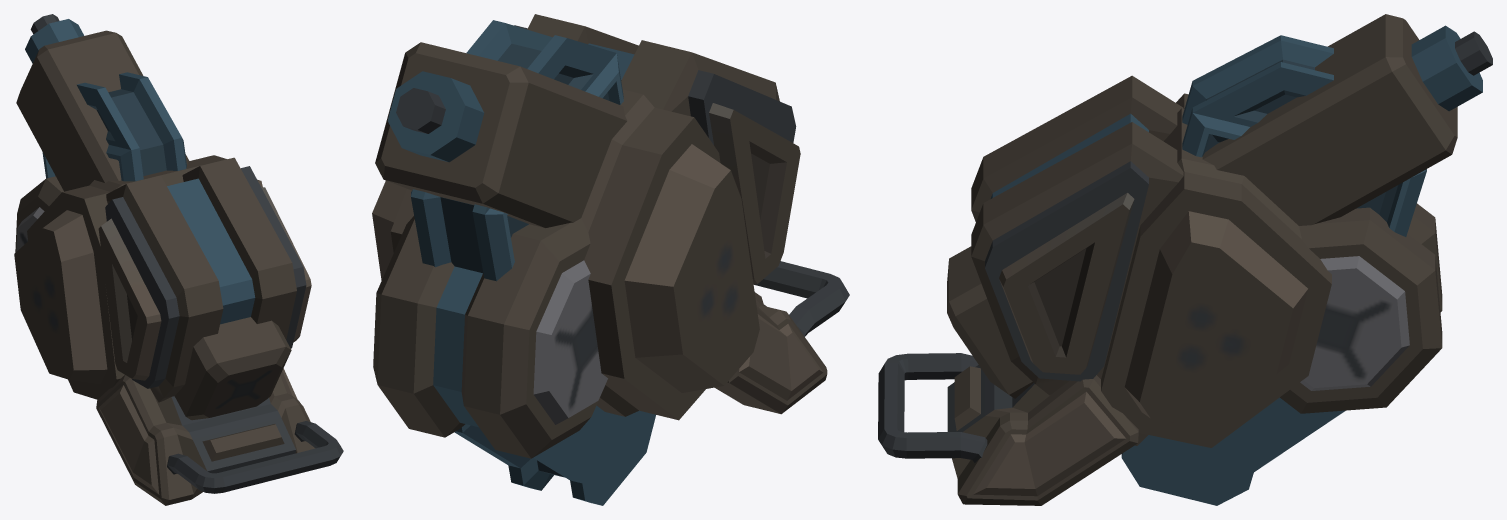
Rendered from SM_Mech_Leg_01_Armor_Shinpad_02.fbx.
3 views of the same model, side by side, from view 1: azimuth 30°, elevation 25°; view 2: azimuth 150°, elevation 25°; view 3: azimuth 270°, elevation 25° (orthographic). The views are drawn at different scales.
Parts seen in each view (by area): view 1: SM_Mech_Leg_01_Armor_Shinpad_02; view 2: SM_Mech_Leg_01_Armor_Shinpad_02; view 3: SM_Mech_Leg_01_Armor_Shinpad_02.
Part boxes in pixels (x1,y1,x2,y2): SM_Mech_Leg_01_Armor_Shinpad_02: [14, 14, 343, 505]; SM_Mech_Leg_01_Armor_Shinpad_02: [372, 14, 849, 505]; SM_Mech_Leg_01_Armor_Shinpad_02: [878, 14, 1492, 505].
Size of the model in its own units: 49.95 by 81.79 by 99.41.
